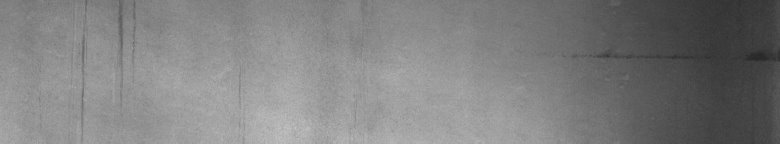ka: (79, 4, 136, 112)
